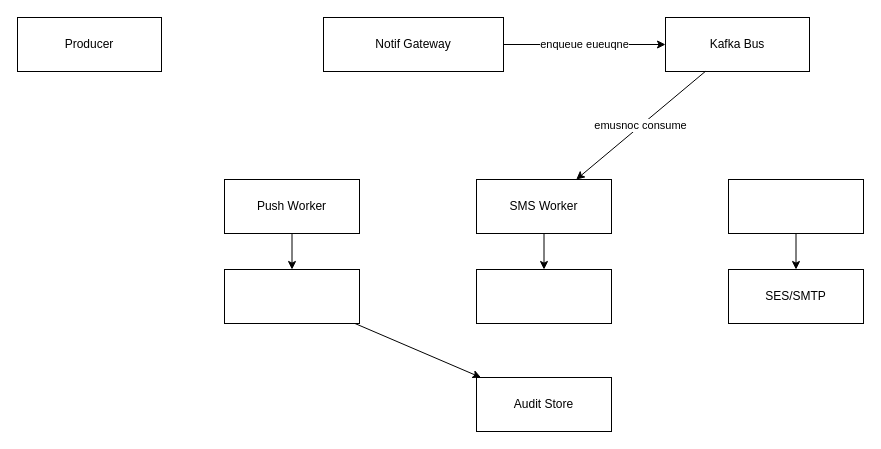
Some shapes in this 881 by 449 pixel diagram are drawn without their labels. The centre of each missing label's shape, as x and y in pixels:
"APNs/FCM" belongs at (292,296).
"Email Worker" belongs at (796,206).
"Twilio API" belongs at (544,296).
